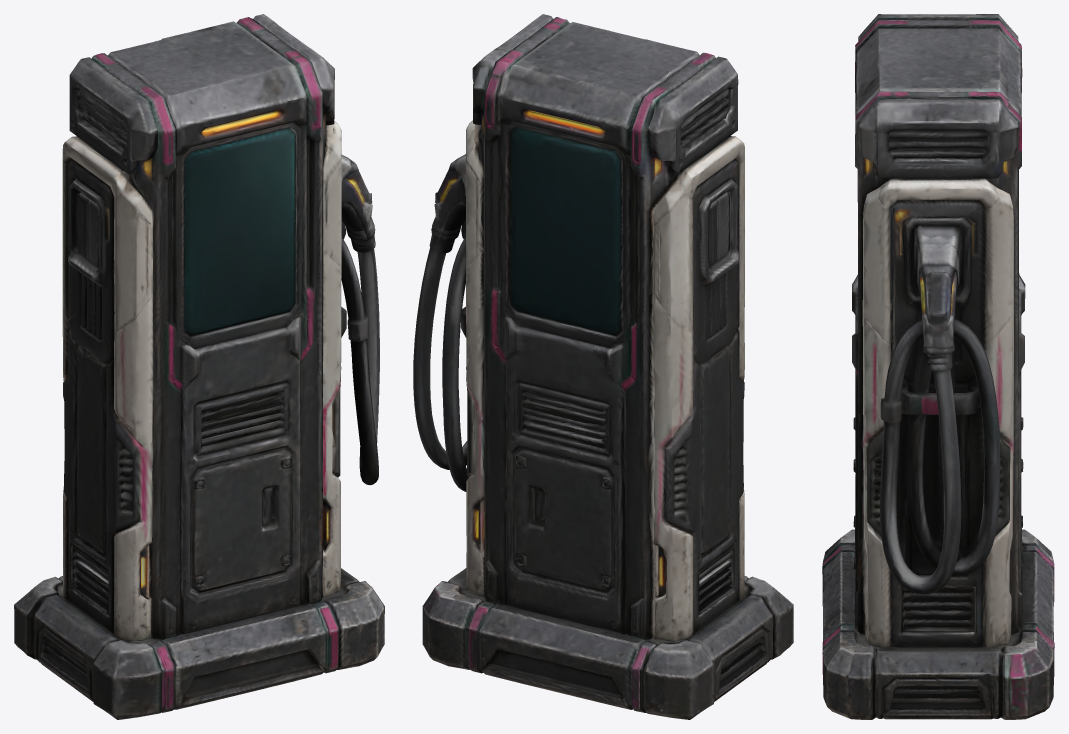
The model's file is kairox-charging-pedestal.glb.
3 renders of one model, left to right at view 1: azimuth 30°, elevation 25°; view 2: azimuth 150°, elevation 25°; view 3: azimuth 270°, elevation 25°, orthographic.
Parts seen in each view (by area): view 1: kairox-charging-pedestal; view 2: kairox-charging-pedestal; view 3: kairox-charging-pedestal.
Boxes of the visible parts, x1,y1,x2,y2 form: kairox-charging-pedestal: (14, 14, 384, 719); kairox-charging-pedestal: (413, 14, 793, 719); kairox-charging-pedestal: (822, 14, 1054, 719).
Bounding box in the file's own units: 1.03 × 1.8 × 0.6364.
Materials: 1 (1 with a texture image).
